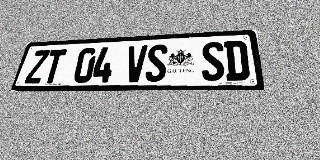0: (72, 48, 97, 83)
4: (91, 47, 116, 83)
D: (224, 40, 250, 81)
S: (201, 41, 225, 81), (145, 44, 168, 82)
T: (41, 49, 67, 83)
V: (124, 45, 148, 82)
Z: (24, 50, 50, 84)
